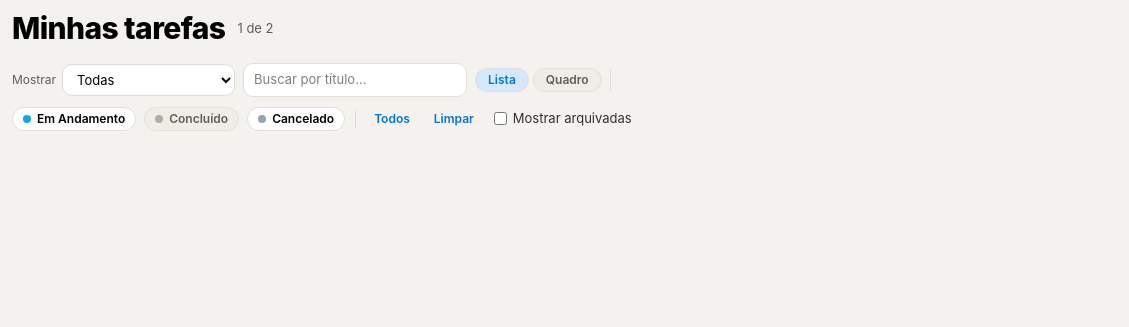
minhas-tarefas -- fiacao da tela › o botao Todos religa as concluidas
The width and height of the screenshot is (1129, 327).
Expected: the text "Ja concluida" is not shown
Click the button "Todos".
click(392, 118)  # box x1=366 y1=104 x2=418 y2=132
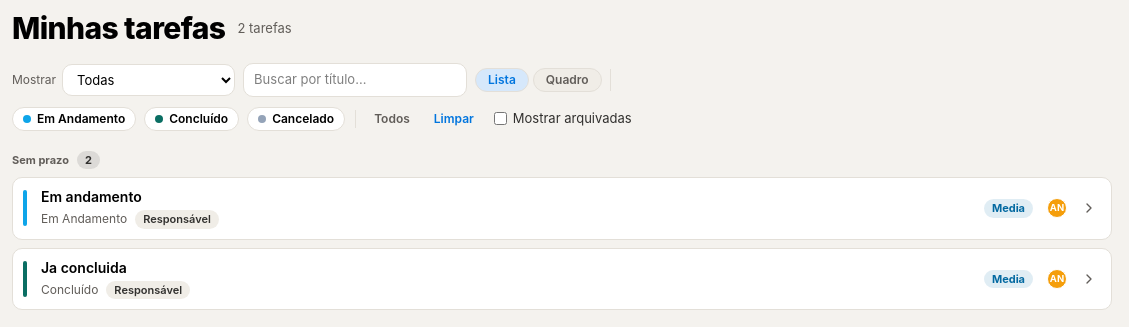
Expected: the text "Ja concluida" is shown, x1=41 y1=259 x2=127 y2=276
